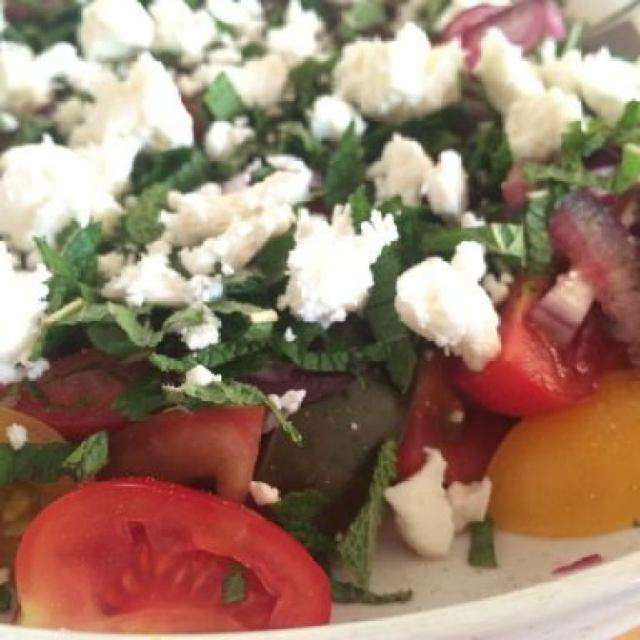Tomato: (8, 474, 332, 634), (466, 272, 616, 425), (95, 406, 268, 508), (398, 356, 509, 486), (0, 351, 143, 437)
